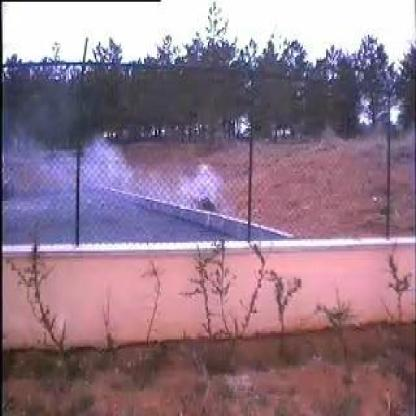-: (48, 115, 224, 235)
